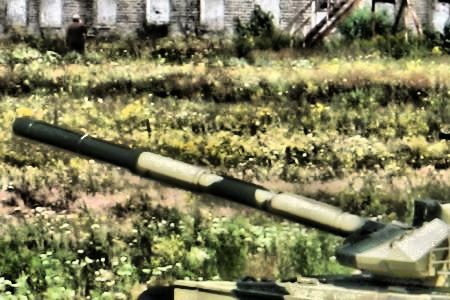tanks: (15, 121, 450, 300)
